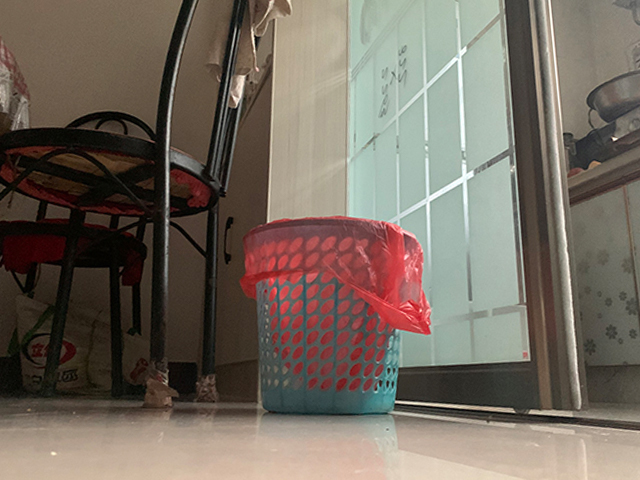cabinet: (566, 143, 640, 402)
stool: (1, 1, 262, 406), (1, 200, 145, 400)
trashcan: (241, 217, 418, 415)
